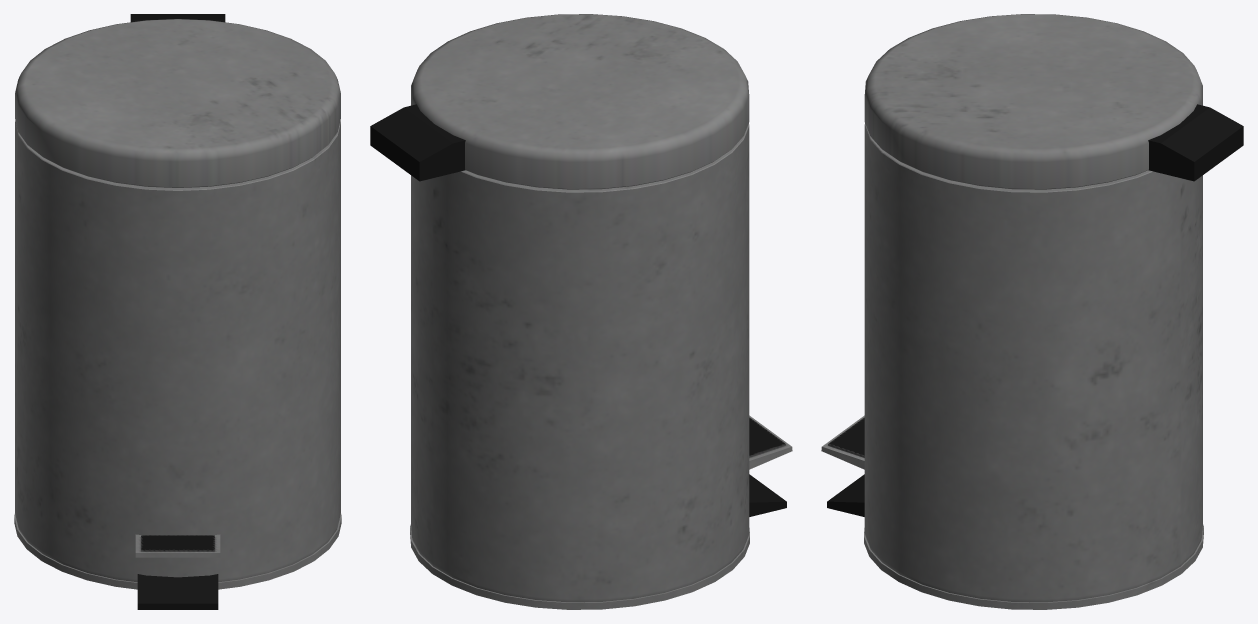
Rendered from trashBinBathroom.glb.
The picture shows the model from 3 angles, left to right: view 1: azimuth 30°, elevation 25°; view 2: azimuth 150°, elevation 25°; view 3: azimuth 270°, elevation 25°; orthographic projection. The views are drawn at different scales.
Visible parts, largest first — view 1: trashbin; view 2: trashbin; view 3: trashbin.
Boxes of the visible parts, <box> form: trashbin: <box>14,14,341,609</box>; trashbin: <box>370,14,792,609</box>; trashbin: <box>821,14,1243,609</box>.
Size of the model in its own units: 0.2067 by 0.3062 by 0.2565.
Materials: 1 (1 with a texture image).
